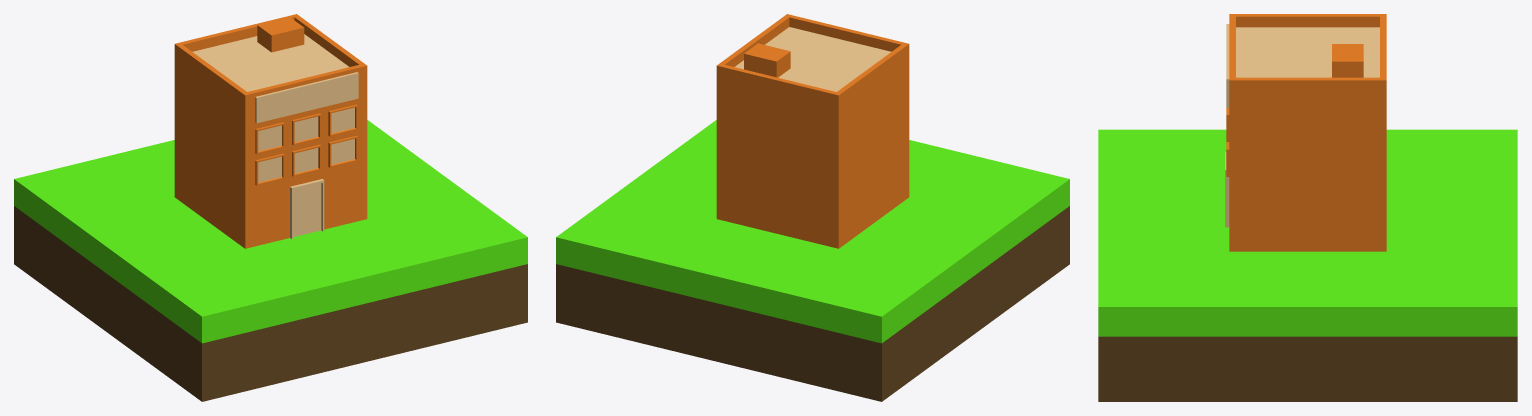
The model's file is Bricks8.glb.
3 views of the same model, side by side, from view 1: azimuth 30°, elevation 25°; view 2: azimuth 150°, elevation 25°; view 3: azimuth 270°, elevation 25° (orthographic). The views are drawn at different scales.
Visible parts, largest first — view 1: Cube, Brick8; view 2: Cube, Brick8; view 3: Cube, Brick8.
Part boxes in pixels (bbox=[...]): Cube: bbox=[14, 120, 527, 401]; Brick8: bbox=[174, 14, 367, 248]; Cube: bbox=[556, 120, 1069, 401]; Brick8: bbox=[716, 14, 909, 248]; Cube: bbox=[1098, 129, 1517, 401]; Brick8: bbox=[1225, 14, 1386, 251].
Size of the model in its own units: 2 by 1.45 by 2.
